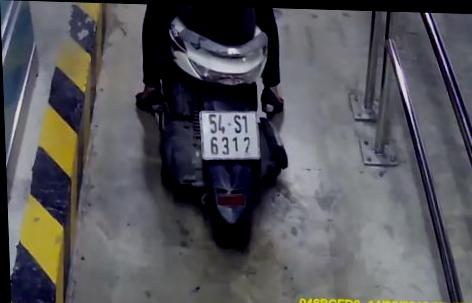License_Plate: (193, 107, 268, 166)
